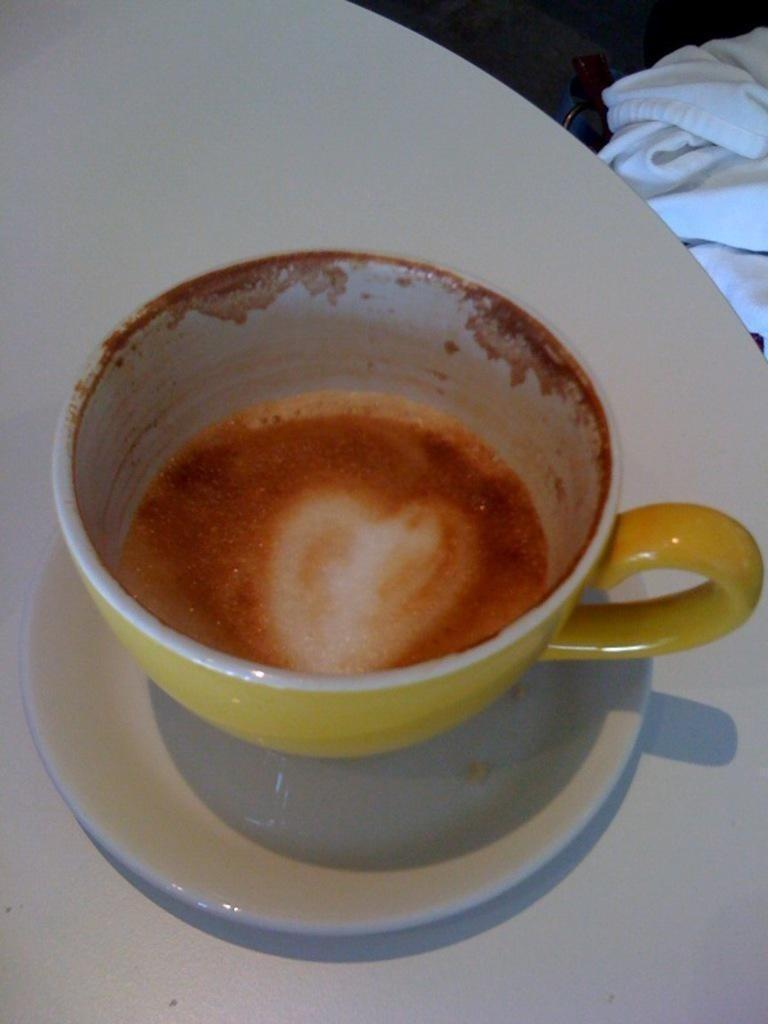cup-handle: (50, 246, 767, 766)
